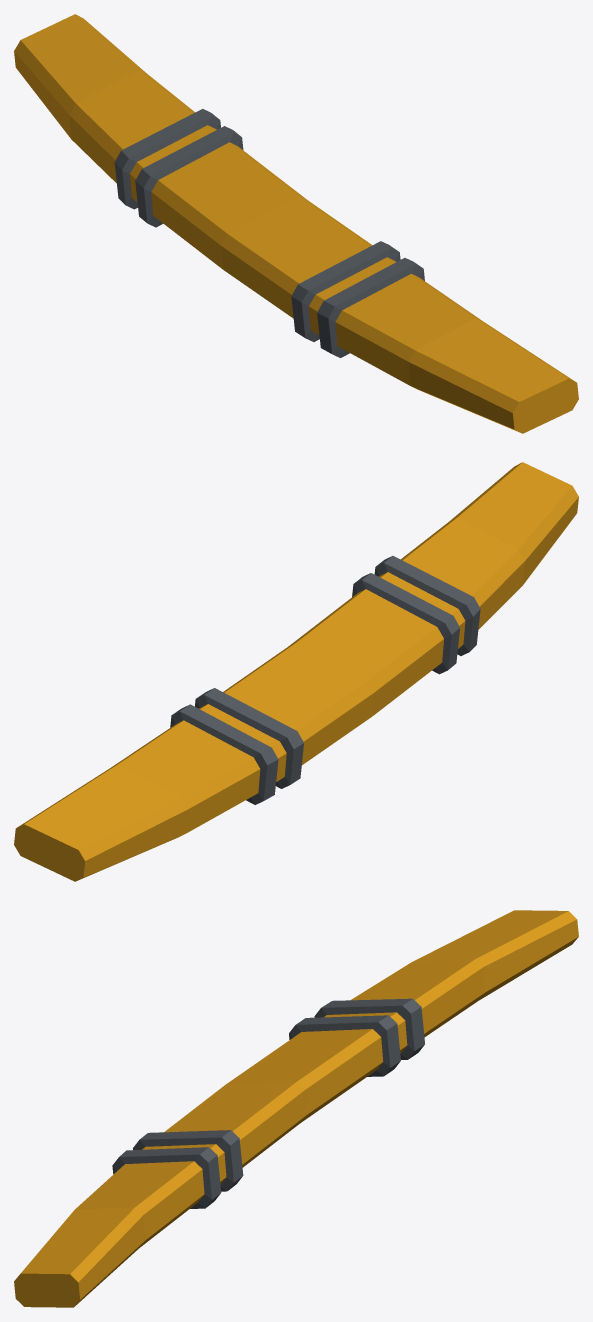
Rendered from Mothership_02_Glider_Left_Yellow.fbx.
3 views of the same model, one above another, from view 1: azimuth 30°, elevation 25°; view 2: azimuth 150°, elevation 25°; view 3: azimuth 330°, elevation 25° (orthographic).
Visible parts, largest first — view 1: Mothership_02_Glider_Left_Yellow; view 2: Mothership_02_Glider_Left_Yellow; view 3: Mothership_02_Glider_Left_Yellow.
Part boxes in pixels (x1=…): Mothership_02_Glider_Left_Yellow: x1=14, y1=14, x2=578, y2=433; Mothership_02_Glider_Left_Yellow: x1=14, y1=462, x2=578, y2=881; Mothership_02_Glider_Left_Yellow: x1=14, y1=910, x2=578, y2=1307.
Bounding box in the file's own units: 292 × 182 × 2166.
1 material, 1 textured.
